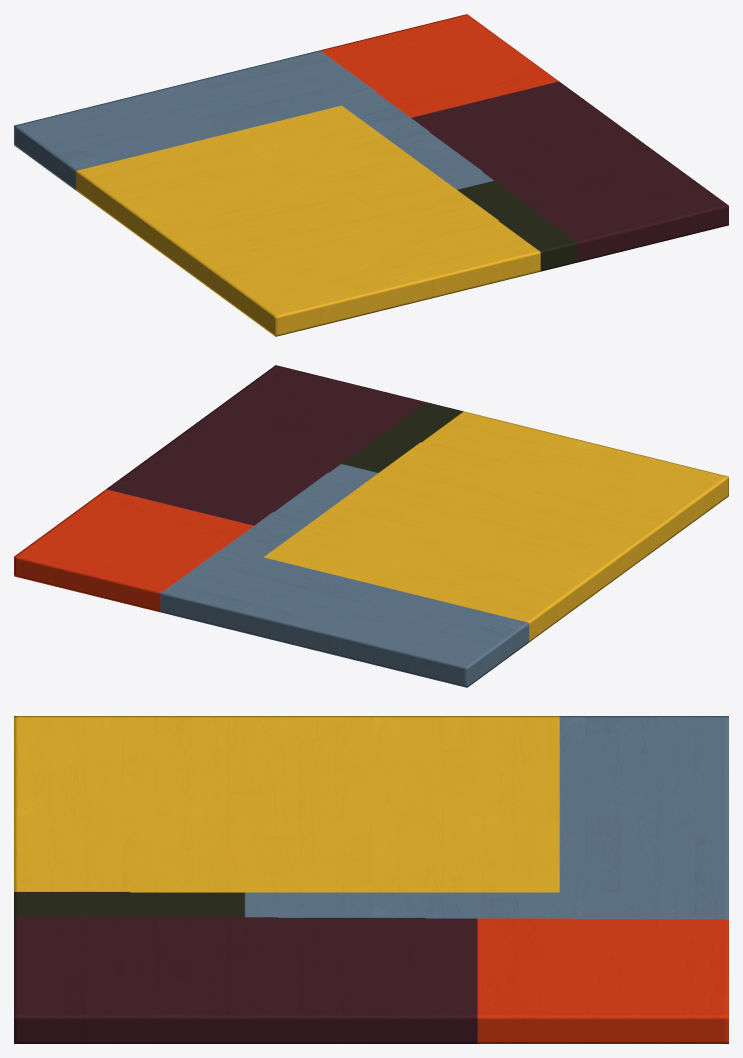
File: study_wall_painting.obj
3 renders of one model, top to bottom at view 1: azimuth 30°, elevation 25°; view 2: azimuth 150°, elevation 25°; view 3: azimuth 270°, elevation 25°, orthographic. The views are drawn at different scales.
Parts seen in each view (by area): view 1: study_wall_painting_Chocofur_Pictures_06.001; view 2: study_wall_painting_Chocofur_Pictures_06.001; view 3: study_wall_painting_Chocofur_Pictures_06.001.
Part boxes in pixels (x1,y1,x2,y2): study_wall_painting_Chocofur_Pictures_06.001: [14, 14, 728, 336]; study_wall_painting_Chocofur_Pictures_06.001: [14, 365, 728, 687]; study_wall_painting_Chocofur_Pictures_06.001: [14, 716, 728, 1043].
Bounding box in the file's own units: 0.979 × 0.0427 × 0.9789.
1 material, 1 textured.
